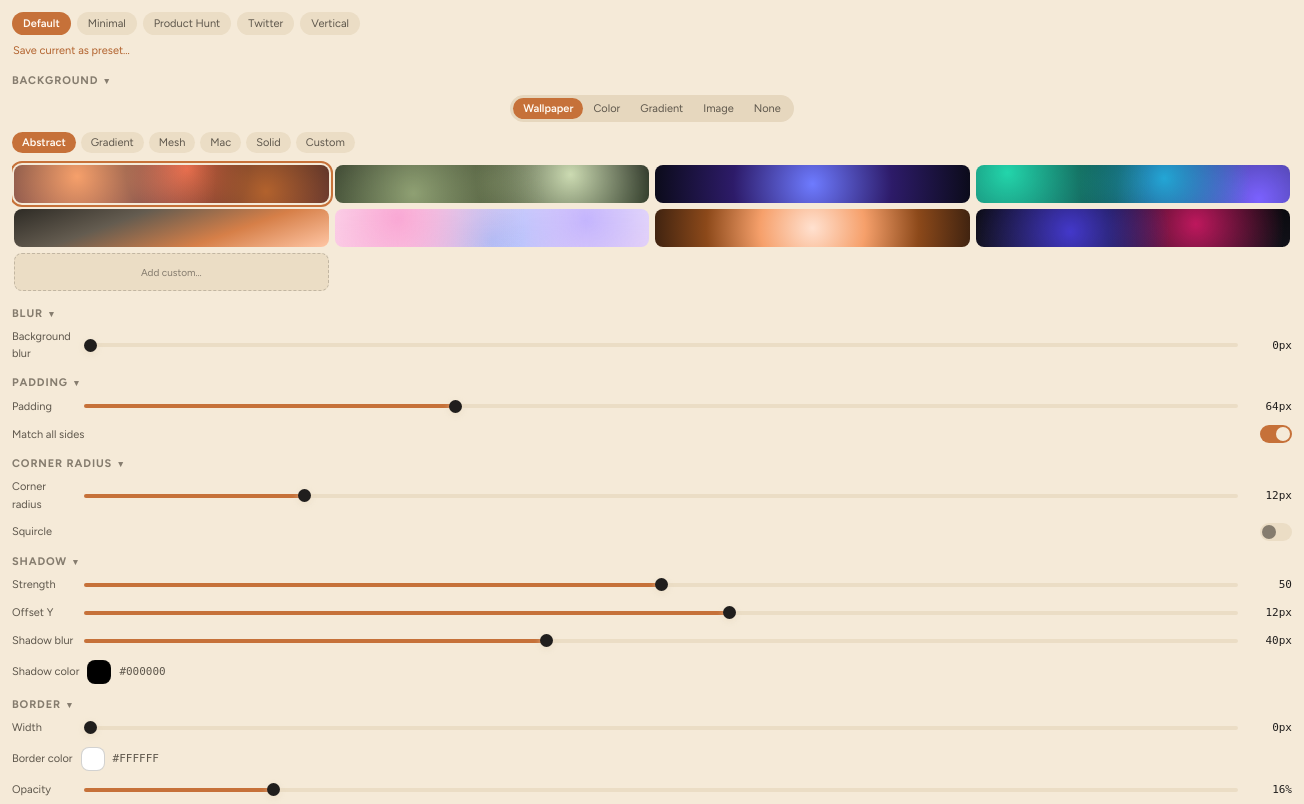
Frame tab › reports import failures inline
What coordinates should you click on to do the following:
click the button "Add custom…"
I would click on:
 (171, 272)
Its box is top-left (14, 253), bottom-right (328, 291).
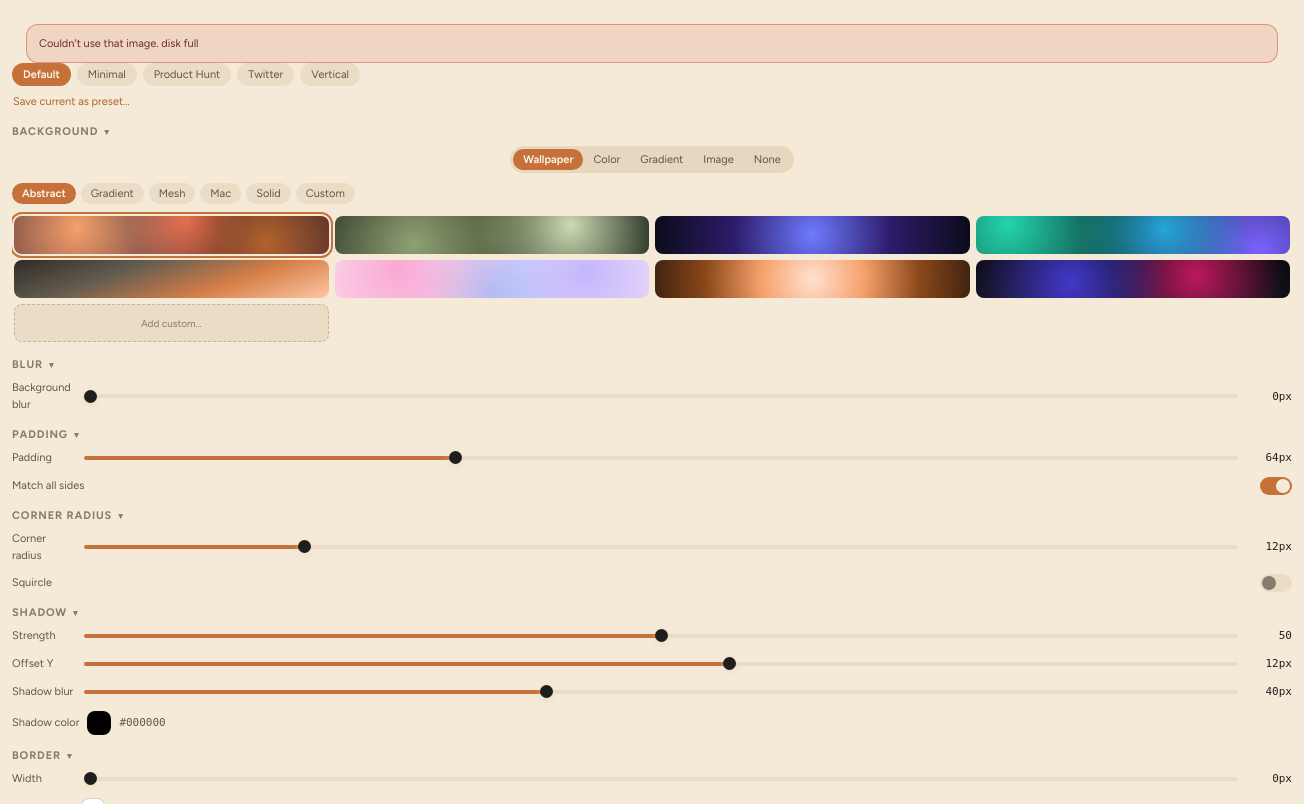
Expected: the message reads "Couldn't use that image. disk full", top-left (39, 37), bottom-right (198, 50)
